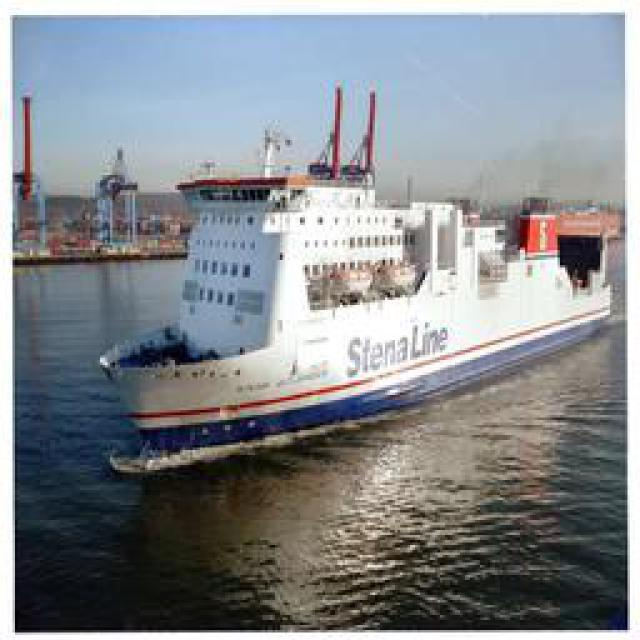Ship: (109, 111, 612, 464)
